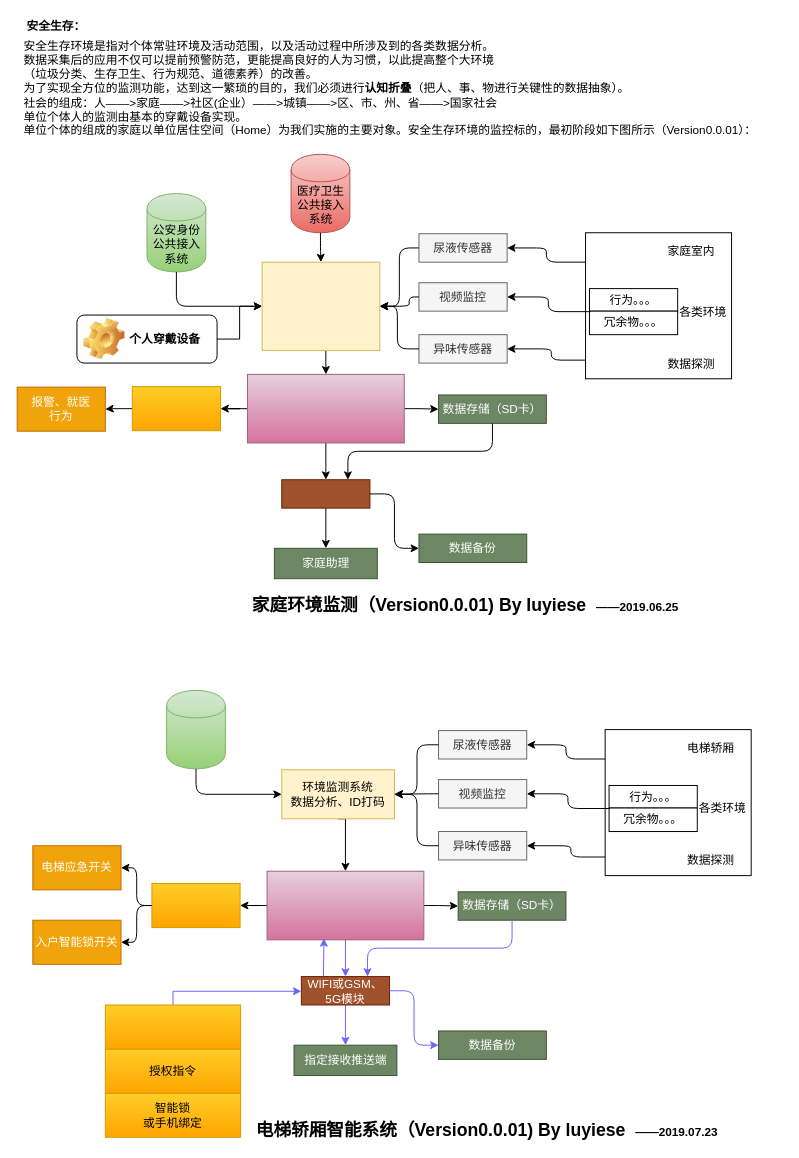
The diagram is 799 pixels wide and 1158 high, and some of its shapes have lost their labels. Each missing label, with the centre of its shape:
WIFI或5G模块: [325,493]
公安身份公开接入系统: [195,729]
控制系统: [345,905]
控制系统 （IoT遥感）: [325,408]
环境监测系统 数据分析、ID打码 （Web平台）: [320,305]
访客拜访预约 第三方委托入户KEY授权: [172,1026]
语音预警播报: [175,408]
语音预警播报 授权短信推送: [195,905]
